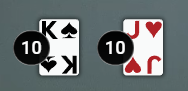j: (123, 18, 143, 42)
k: (38, 18, 59, 43)
